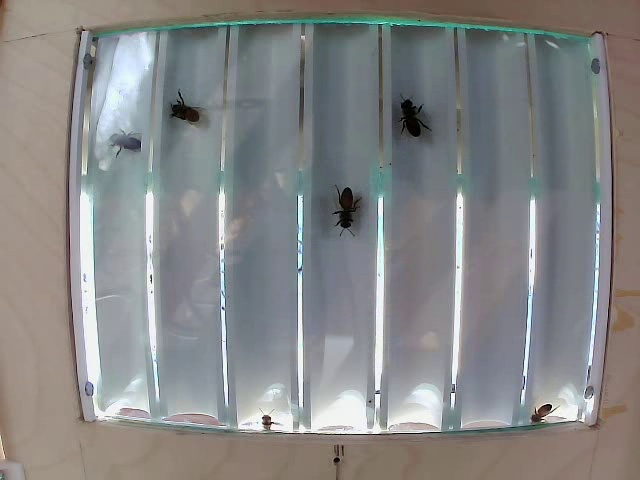bee: (327, 180, 366, 243), (388, 97, 430, 142), (98, 121, 148, 158), (167, 93, 205, 127)
